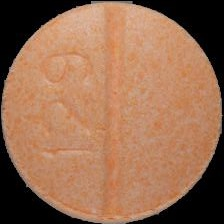53808-0162: (0, 0, 224, 224)
